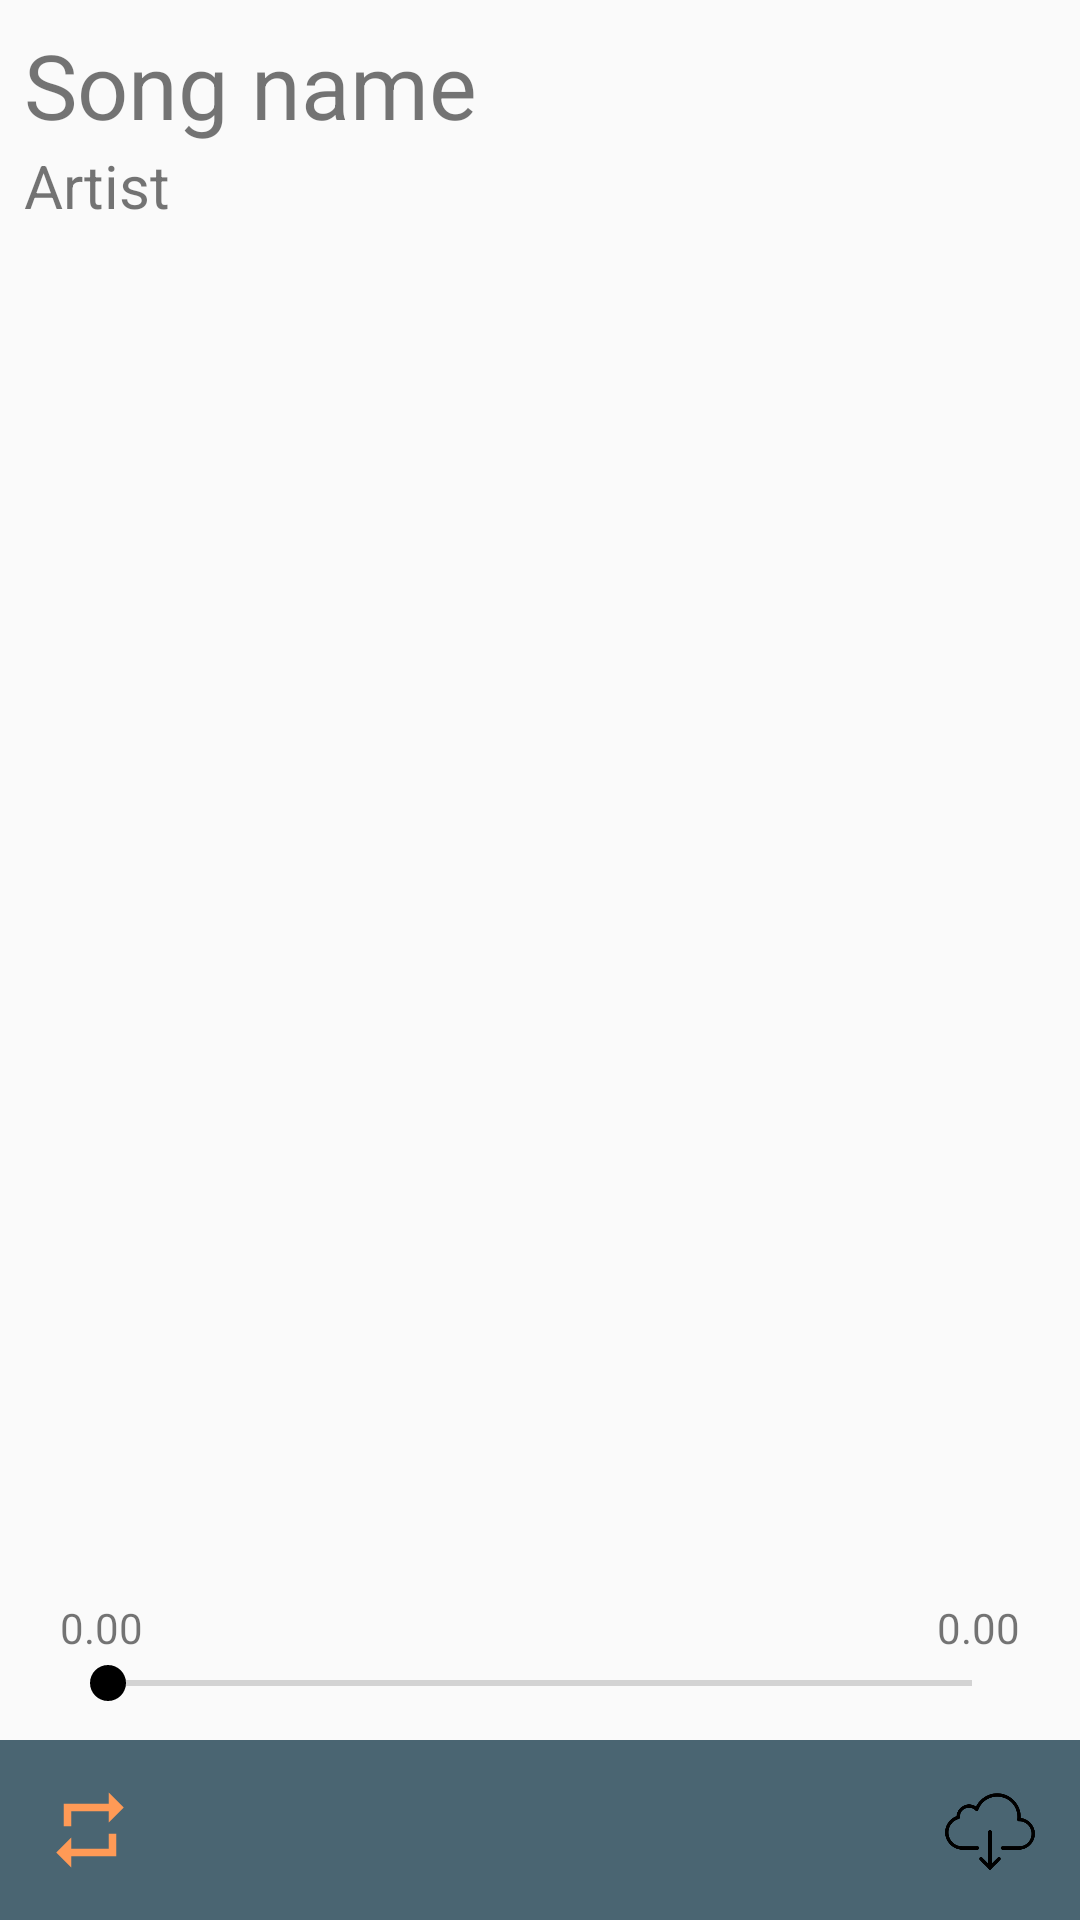

Locate icon controls on the screen. Image size 1080 × 1920, boxes as [left=x1, top=y1, right=x2, bottom=y2].
download: [left=945, top=1793, right=1035, bottom=1870]
repeat: [left=56, top=1793, right=124, bottom=1867]
